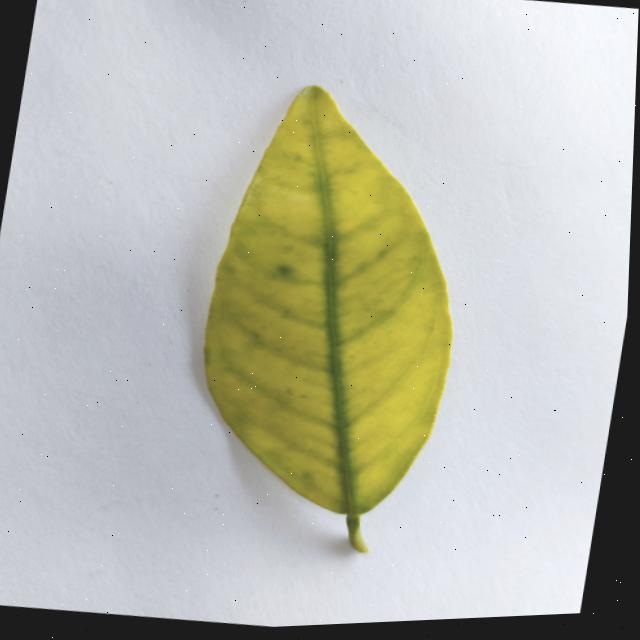greening: (204, 85, 452, 552)
